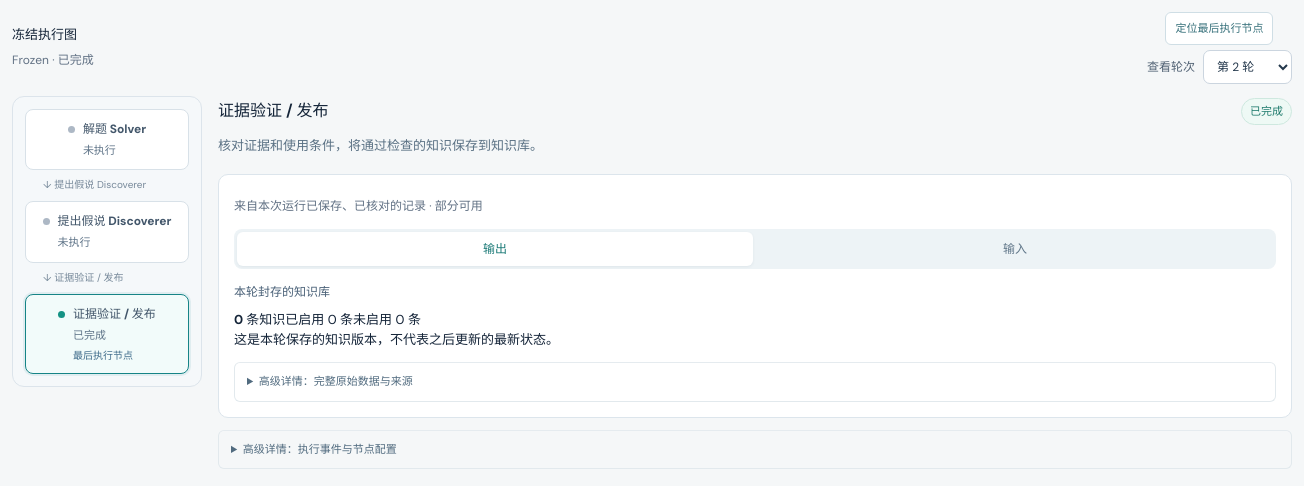
Test case: renders verified program outputs with missing input explicit, and changes round without mixing questions
Check: the text "0 条知识" is shown, box x1=234 y1=311 x2=285 y2=328
Click the tab "输入" at (1015, 249), box x1=757 y1=232 x2=1273 y2=266
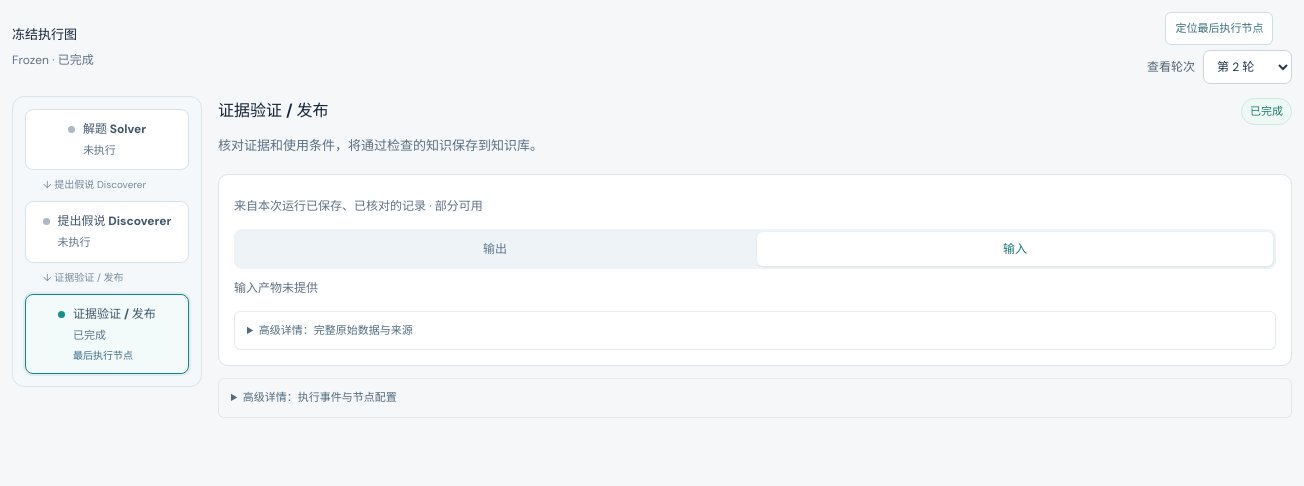
Check: the text "输入产物未提供" is shown, box x1=234 y1=280 x2=318 y2=296
Select "第 1 轮" in the dropdown labelled "查看轮次" at (1248, 67), box x1=1203 y1=50 x2=1292 y2=84
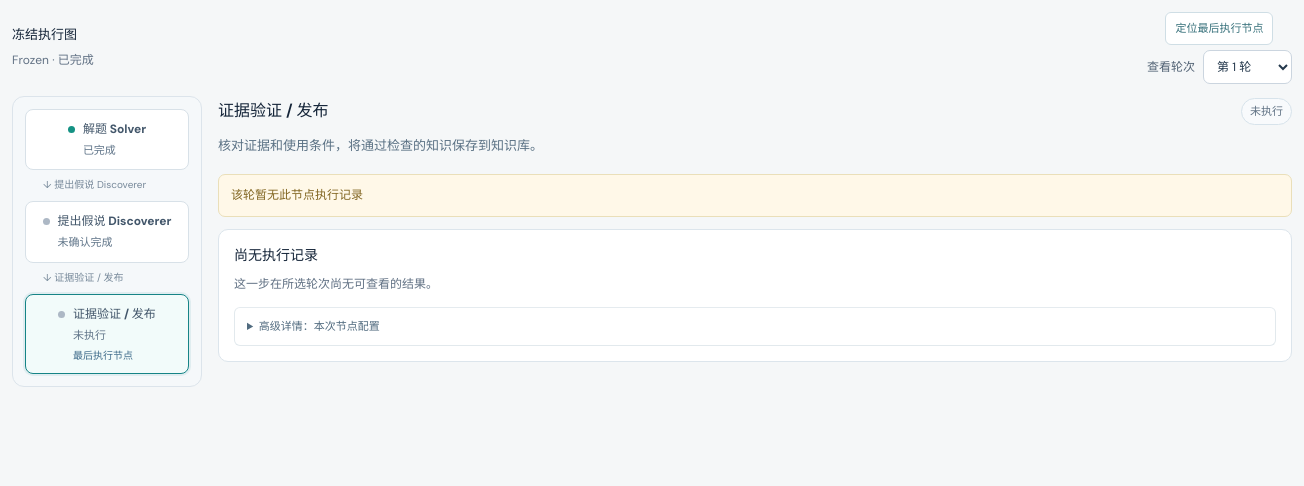
Check: the text "该轮暂无此节点执行记录" is shown, box x1=218 y1=174 x2=1292 y2=216
